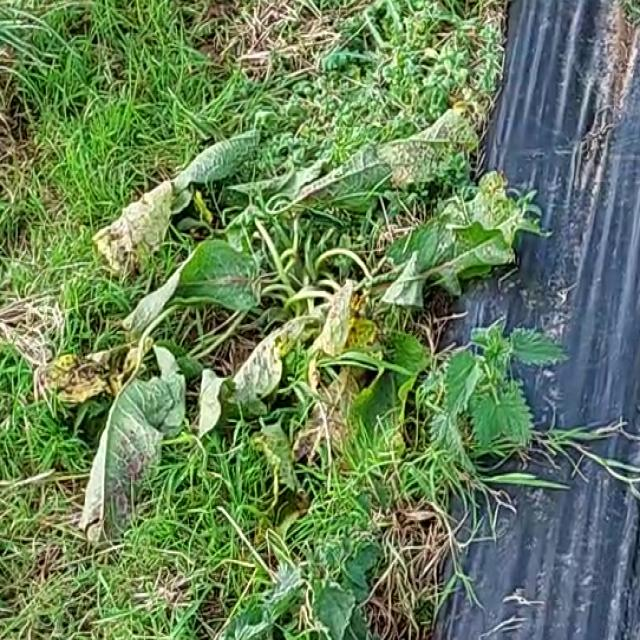organic waste: (66, 131, 501, 503)
